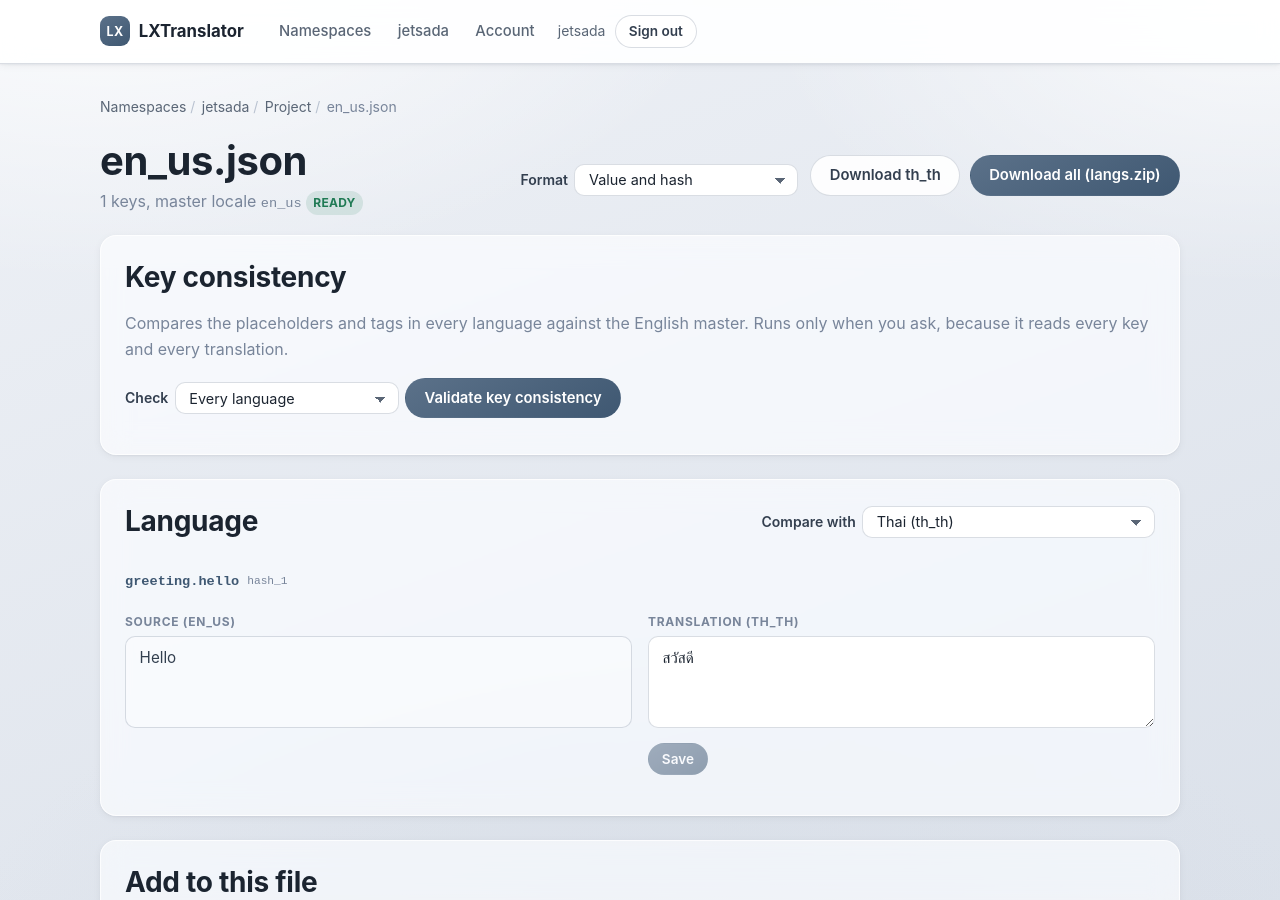
Test: translation editor › downloading › reports a failed archive instead of saving an error page
Expected: the heading "Add to this file" is shown, [125, 865, 317, 899]
Click the button "Download all (langs.zip)" at coordinates (1075, 175), box [970, 155, 1180, 196]
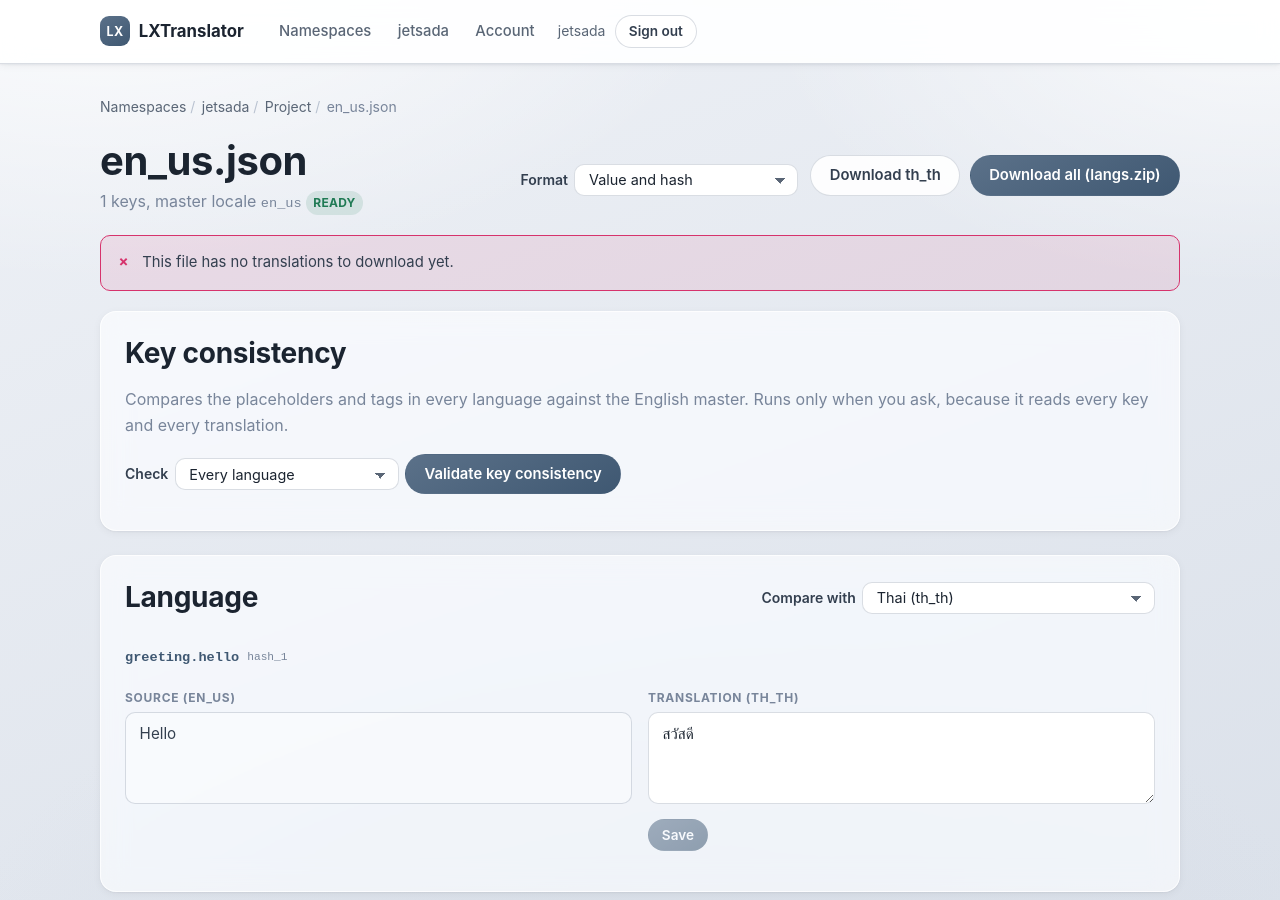
Expected: the text "This file has no translations to download yet." is shown, [142, 253, 454, 271]
